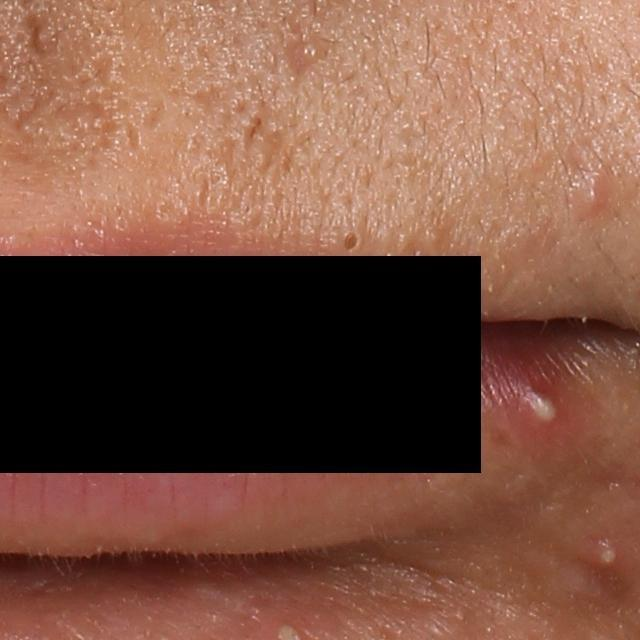atrophic_scar: (11, 80, 60, 129), (286, 25, 326, 78), (23, 12, 56, 68), (87, 51, 119, 93), (123, 120, 146, 153)
comedo: (333, 223, 367, 256)
papule: (567, 166, 613, 215)
pustule: (508, 383, 570, 437), (581, 536, 631, 577)
